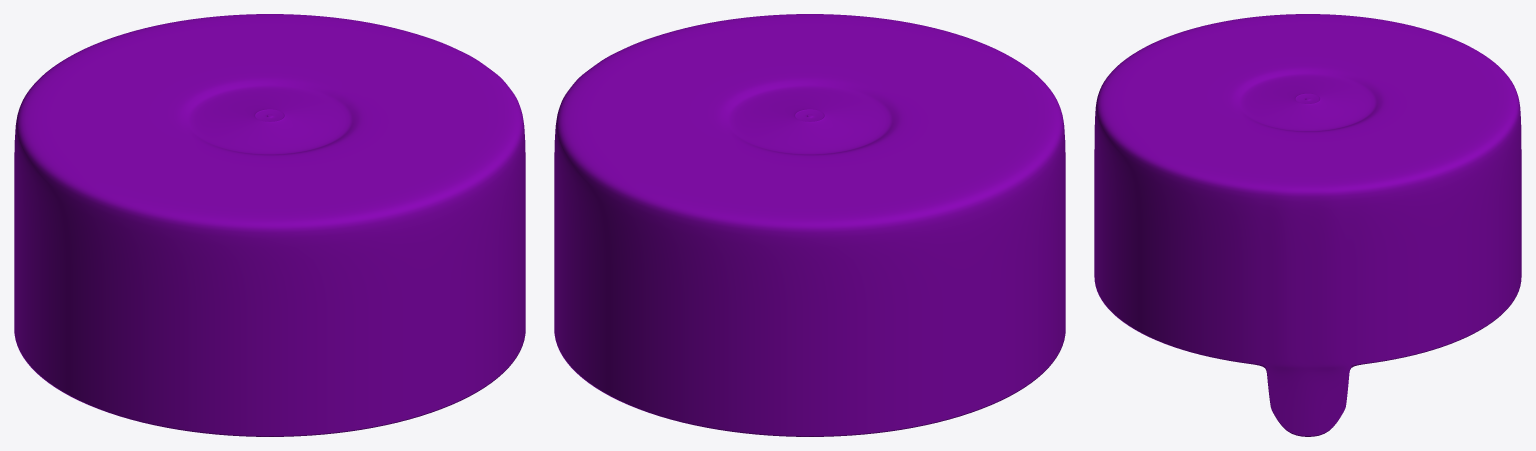
Rendered from Cap1.glb.
3 renders of one model, left to right at view 1: azimuth 30°, elevation 25°; view 2: azimuth 150°, elevation 25°; view 3: azimuth 270°, elevation 25°, orthographic. The views are drawn at different scales.
Parts seen in each view (by area): view 1: Circle; view 2: Circle; view 3: Circle.
Boxes of the visible parts, x1,y1,x2,y2 form: Circle: (14,14,525,436); Circle: (554,14,1065,436); Circle: (1094,14,1521,436).
Bounding box in the file's own units: 0.0547 × 0.035 × 0.0546.
